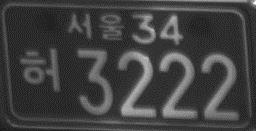2: (157, 48, 198, 120), (200, 51, 240, 124), (118, 49, 157, 119)
3: (75, 47, 114, 116), (127, 11, 157, 44)
4: (157, 14, 184, 47)
서울_O: (66, 10, 125, 43)
허: (19, 47, 62, 93)
